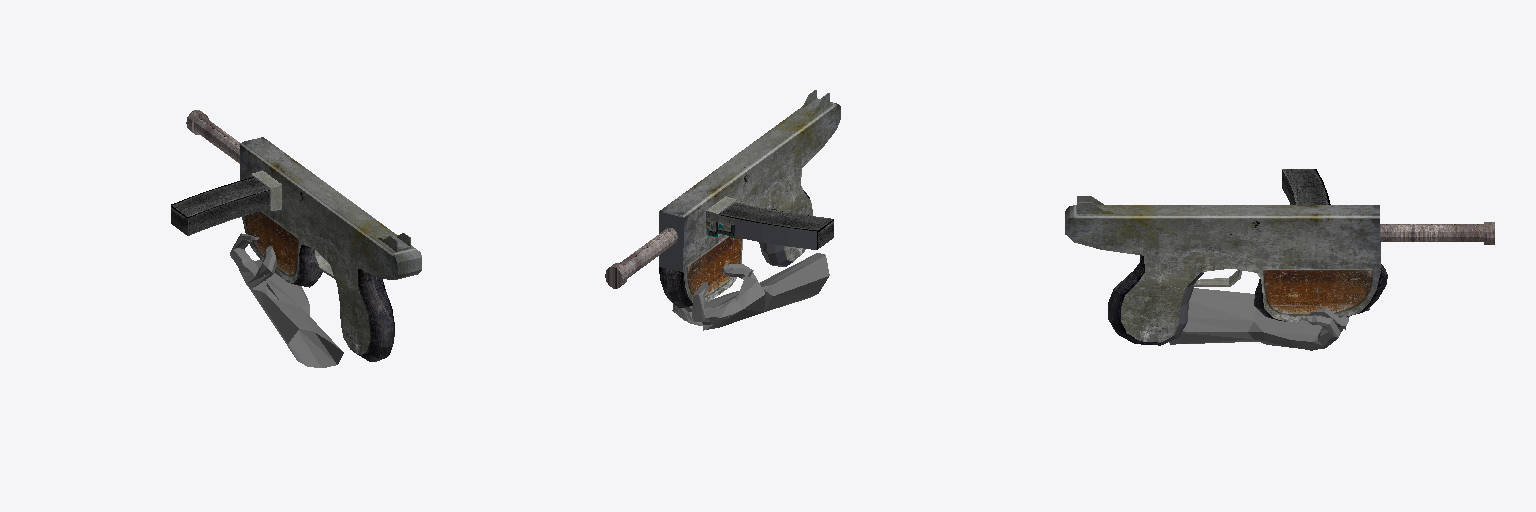
3 renders of one model, left to right at view 1: azimuth 30°, elevation 25°; view 2: azimuth 150°, elevation 25°; view 3: azimuth 270°, elevation 25°, orthographic.
Parts seen in each view (by area): view 1: sides, w_handr, Ammo, top, Regroup02, Barrel, Body, ammoHolder; view 2: sides, w_handr, Ammo, top, Body, Barrel, ammoHolder; view 3: sides, w_handr, top, Barrel, Ammo, Regroup02, Body, Regroup01.
Boxes of the visible parts, x1,y1,x2,y2 form: sides: [240, 139, 415, 354]; w_handr: [230, 233, 343, 367]; Ammo: [171, 177, 269, 235]; top: [243, 137, 421, 262]; Regroup02: [353, 269, 394, 361]; Barrel: [186, 110, 240, 163]; Body: [291, 245, 421, 287]; ammoHolder: [251, 170, 281, 210]; sides: [659, 104, 840, 302]; w_handr: [672, 253, 829, 330]; Ammo: [718, 202, 833, 249]; top: [662, 102, 836, 214]; Body: [659, 206, 792, 307]; Barrel: [605, 228, 677, 288]; ammoHolder: [706, 196, 737, 236]; sides: [1065, 215, 1380, 342]; w_handr: [1169, 288, 1369, 350]; top: [1066, 205, 1379, 220]; Barrel: [1380, 222, 1494, 244]; Ammo: [1282, 169, 1330, 204]; Regroup02: [1108, 255, 1160, 345]; Body: [1065, 211, 1387, 344]; Regroup01: [1077, 196, 1115, 213].
Bounding box in the file's own units: 62.55 × 68.25 × 167.
2 materials, 1 textured.